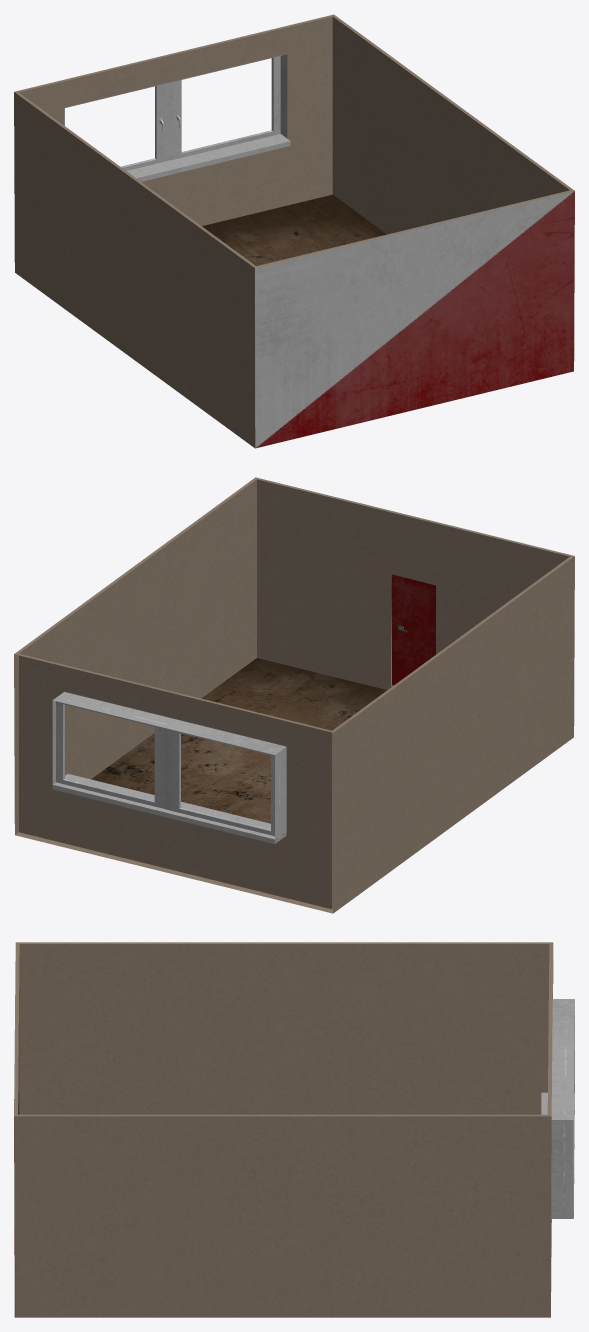
File: room.glb
The picture shows the model from 3 angles, top to bottom: view 1: azimuth 30°, elevation 25°; view 2: azimuth 150°, elevation 25°; view 3: azimuth 270°, elevation 25°; orthographic projection. The views are drawn at different scales.
Visible parts, largest first — view 1: fridge.001; view 2: fridge.001; view 3: fridge.001.
Boxes of the visible parts, box(x1,y1,x2,y2) form: fridge.001: box(14, 14, 574, 448); fridge.001: box(14, 477, 574, 913); fridge.001: box(14, 942, 574, 1317).
Size of the model in its own units: 3.08 by 1.67 by 4.2.
Materials: 1 (1 with a texture image).
